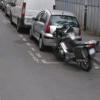Motorcycle: (48, 24, 99, 69)
